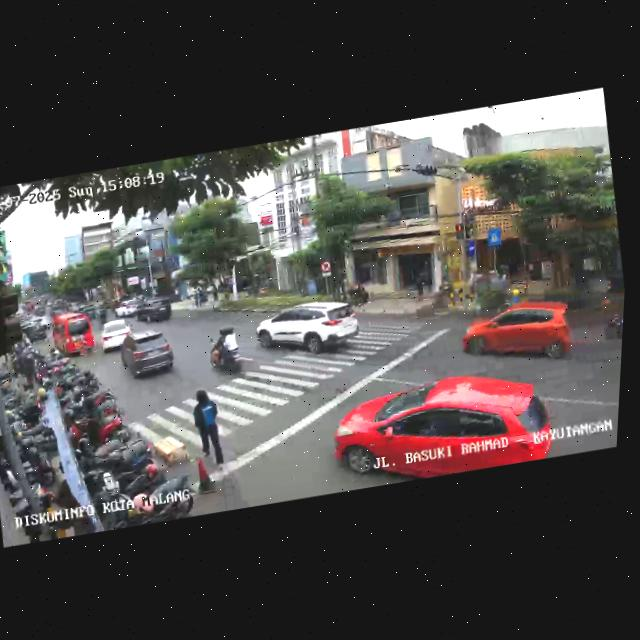car: (326, 362, 562, 492), (458, 293, 580, 378), (252, 293, 365, 364), (117, 326, 182, 383), (44, 309, 98, 363), (123, 294, 175, 329), (97, 315, 137, 354), (19, 315, 52, 344)
motorcycle: (204, 324, 253, 381), (594, 284, 625, 350)
person: (186, 387, 230, 474)
